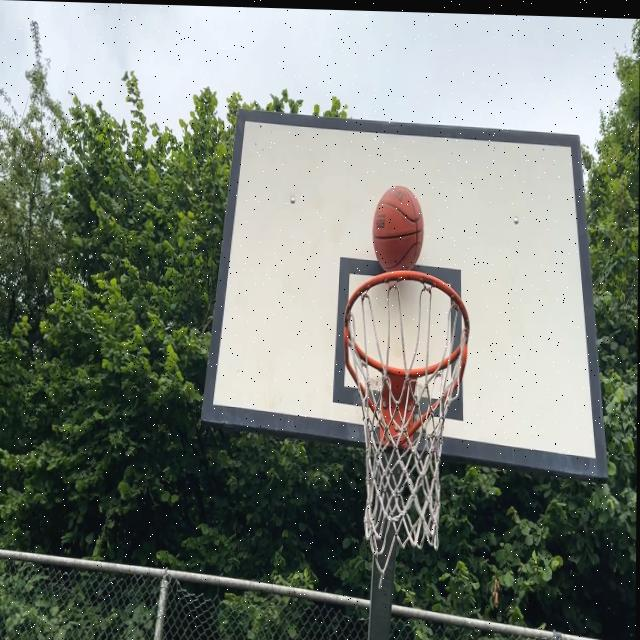rebound_hit: (372, 183, 425, 280)
